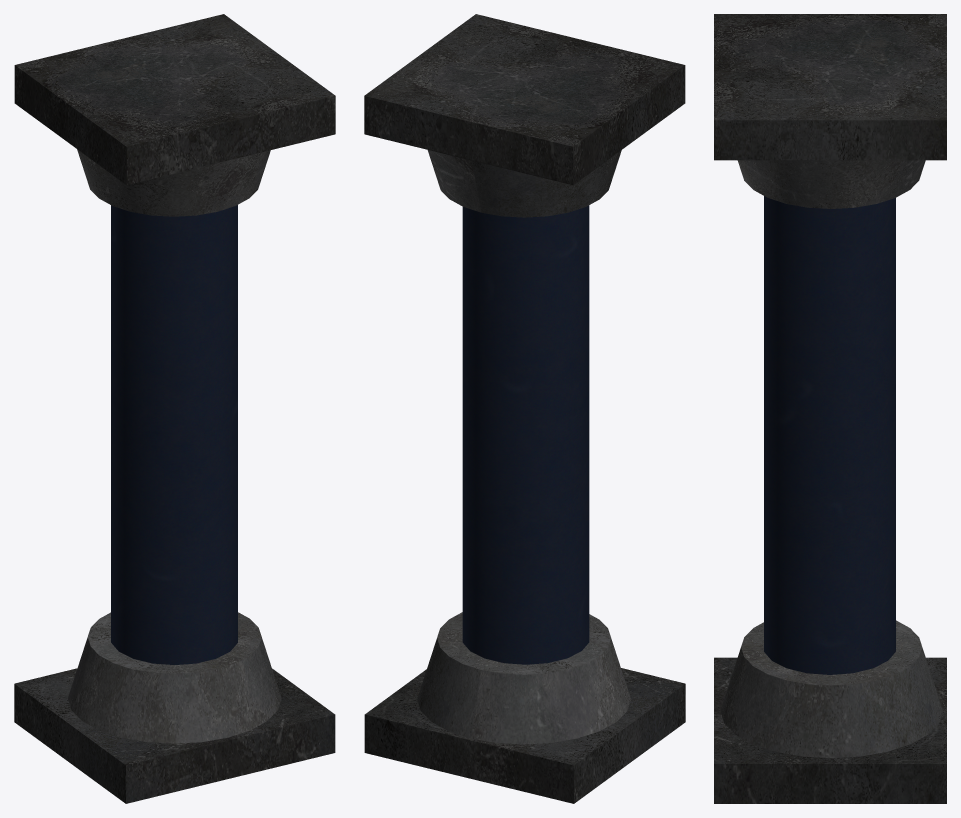
The model's file is Column ver1.FBX.
3 renders of one model, left to right at view 1: azimuth 30°, elevation 25°; view 2: azimuth 150°, elevation 25°; view 3: azimuth 270°, elevation 25°, orthographic. The views are drawn at different scales.
Visible parts, largest first — view 1: Box013; view 2: Box013; view 3: Box013.
Boxes of the visible parts, x1,y1,x2,y2 form: Box013: [14, 14, 335, 803]; Box013: [364, 14, 685, 803]; Box013: [714, 14, 946, 803].
Size of the model in its own units: 9428 by 28209 by 8706.
Materials: 1 (1 with a texture image).
